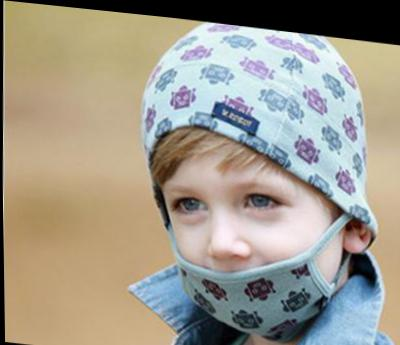WRONG: (160, 157, 330, 339)
